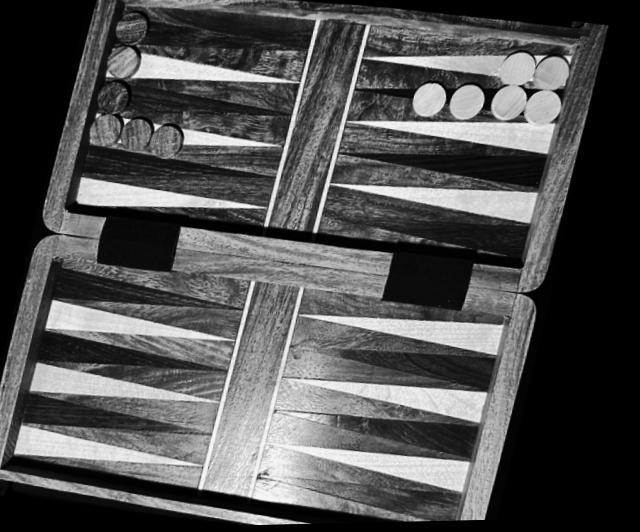bar: (57, 199, 527, 323)
board: (1, 0, 589, 531)
dark_p: (145, 119, 195, 167), (98, 39, 147, 86), (85, 107, 130, 153), (92, 75, 136, 118), (118, 113, 161, 155)
light_p: (444, 79, 494, 127), (408, 75, 455, 123), (521, 86, 569, 133), (530, 50, 578, 97), (495, 46, 541, 92), (487, 82, 534, 127), (109, 4, 156, 48)
